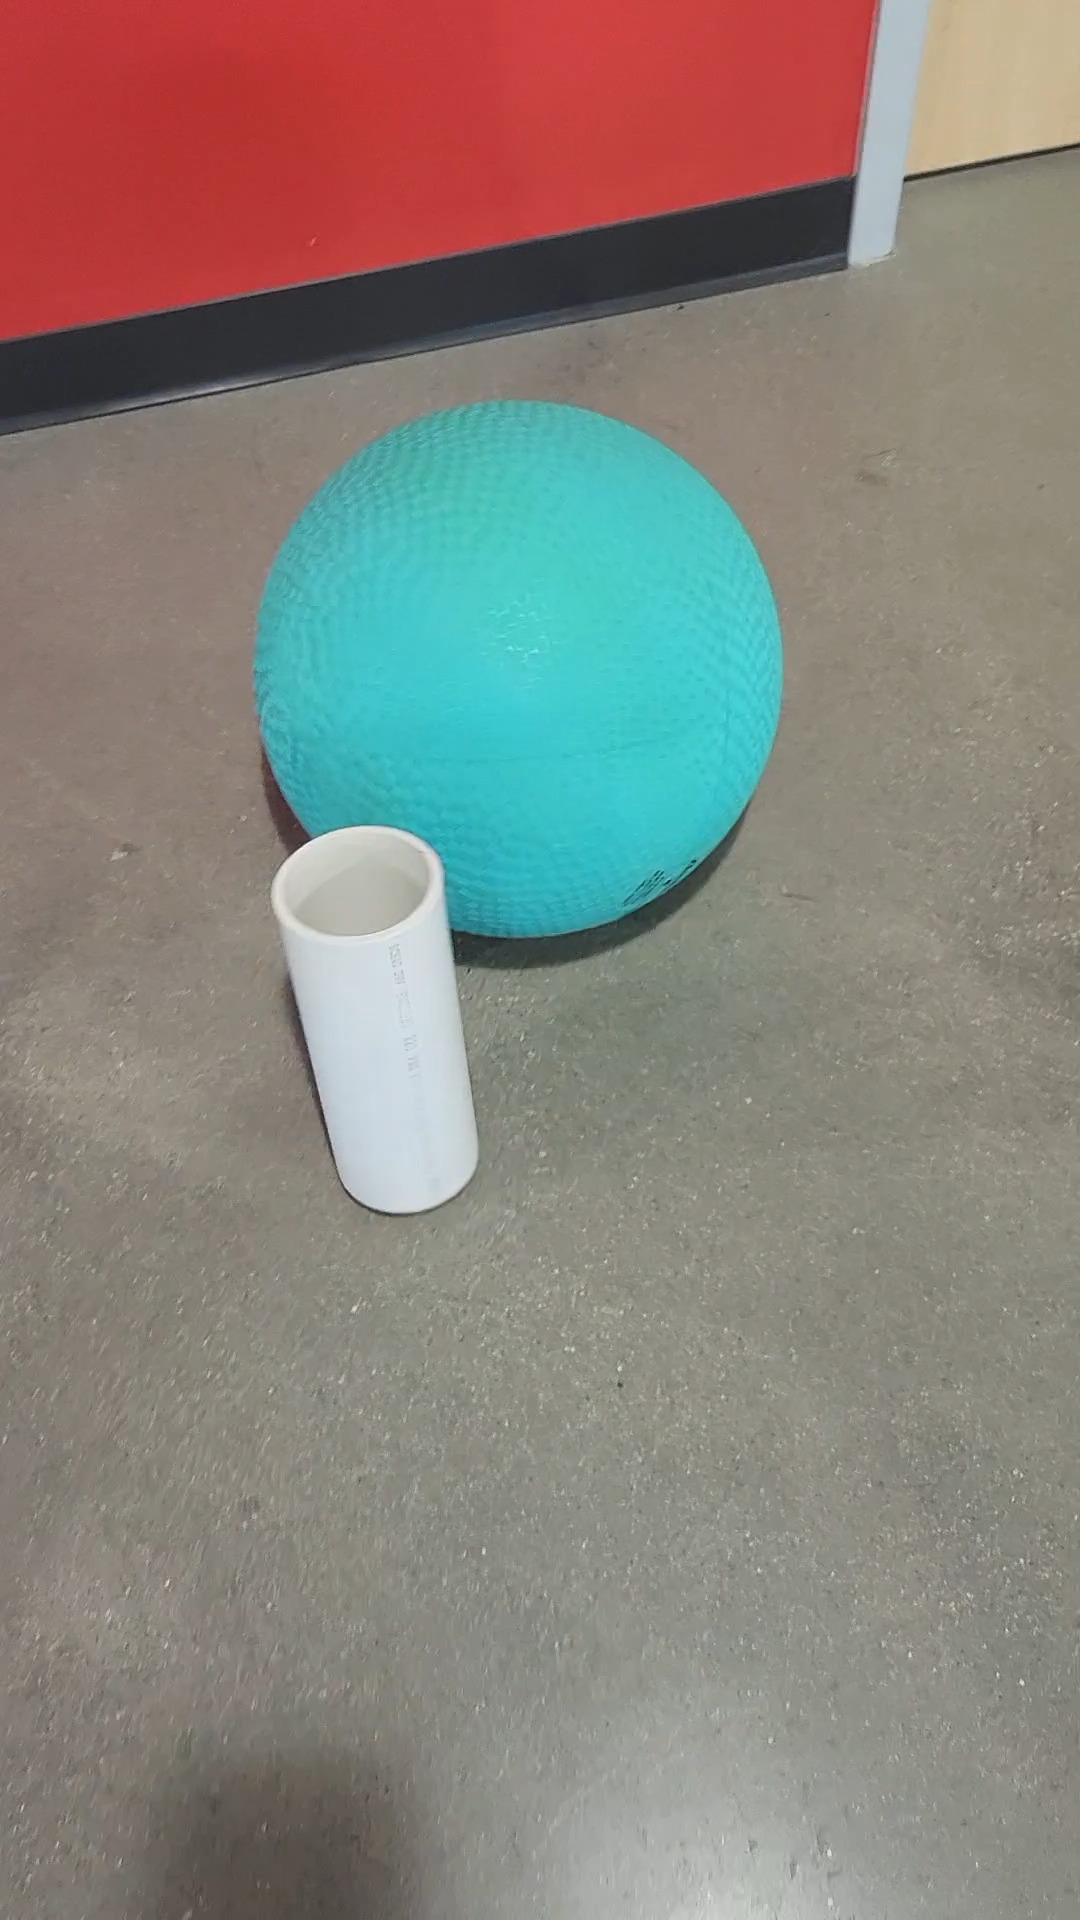algae: (236, 381, 798, 952)
coral: (266, 816, 510, 1217)
